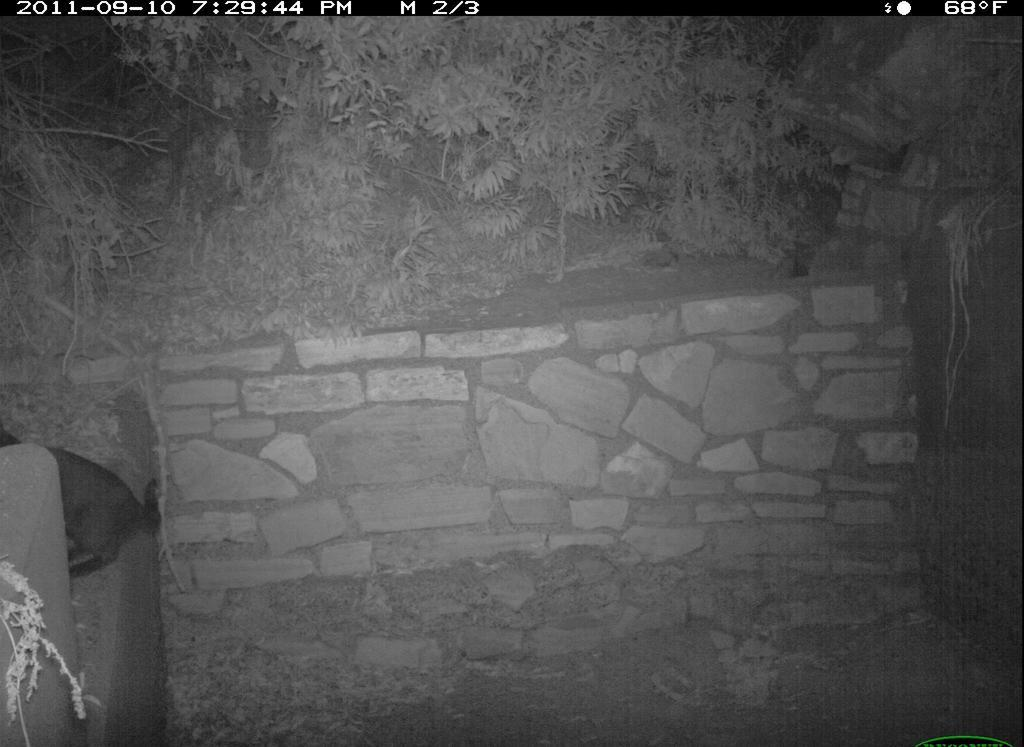cat: (2, 411, 171, 594)
